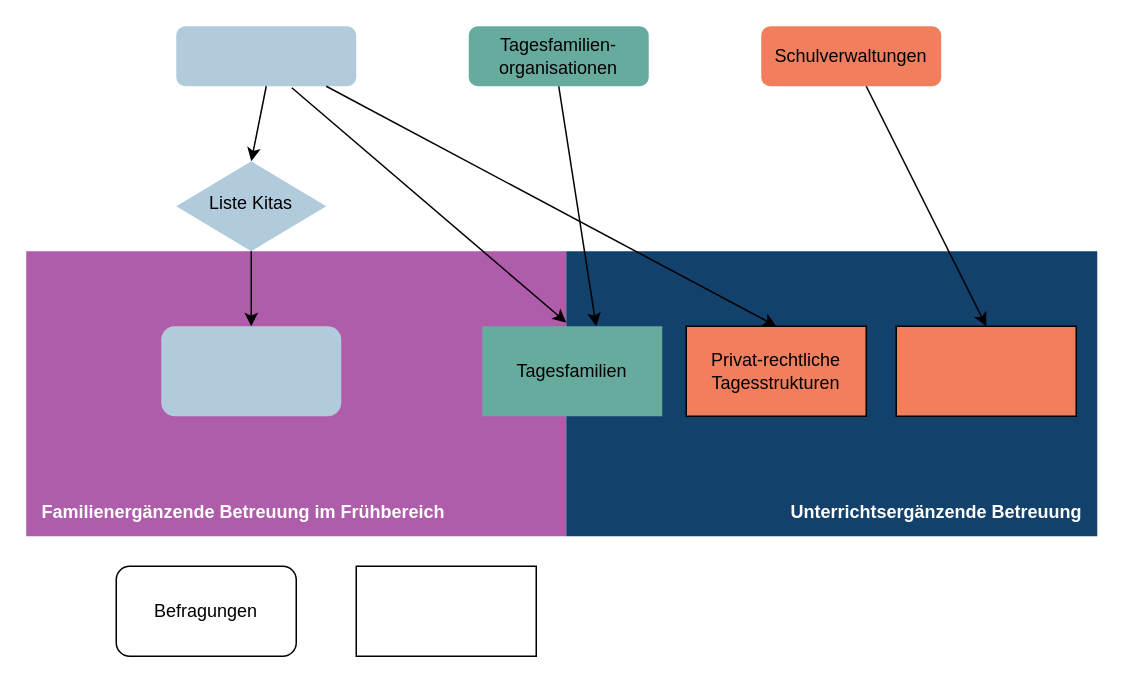
Some shapes in this 1122 by 683 pixel diagram are drawn without their labels. The shapes that lost their labels are listed below. From the top down, each one's centre as x and y in pixels, then its label:
At (266,56): "Gemeinden".
At (250,371): "Tägerschaften der Kitas".
At (985,370): "Öffentlich-rechtliche Tagesstrukture n".
At (445,610): "Keine Befragungen".
